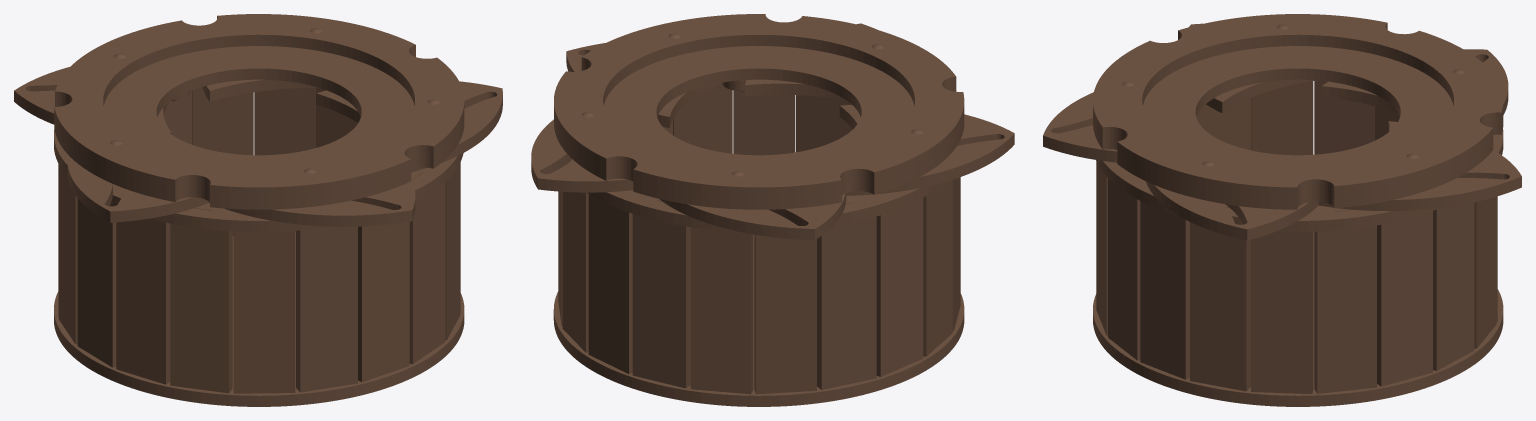
The model's file is Iris.glb.
3 views of the same model, side by side, from view 1: azimuth 30°, elevation 25°; view 2: azimuth 150°, elevation 25°; view 3: azimuth 270°, elevation 25° (orthographic).
Visible parts, largest first — view 1: iris box 1 v16; view 2: iris box 1 v16; view 3: iris box 1 v16.
Boxes of the visible parts, x1=… form: iris box 1 v16: x1=14, y1=14, x2=502, y2=406; iris box 1 v16: x1=531, y1=14, x2=1014, y2=406; iris box 1 v16: x1=1043, y1=14, x2=1521, y2=406.
Bounding box in the file's own units: 119 × 59.45 × 117.
1 material, 1 textured.
